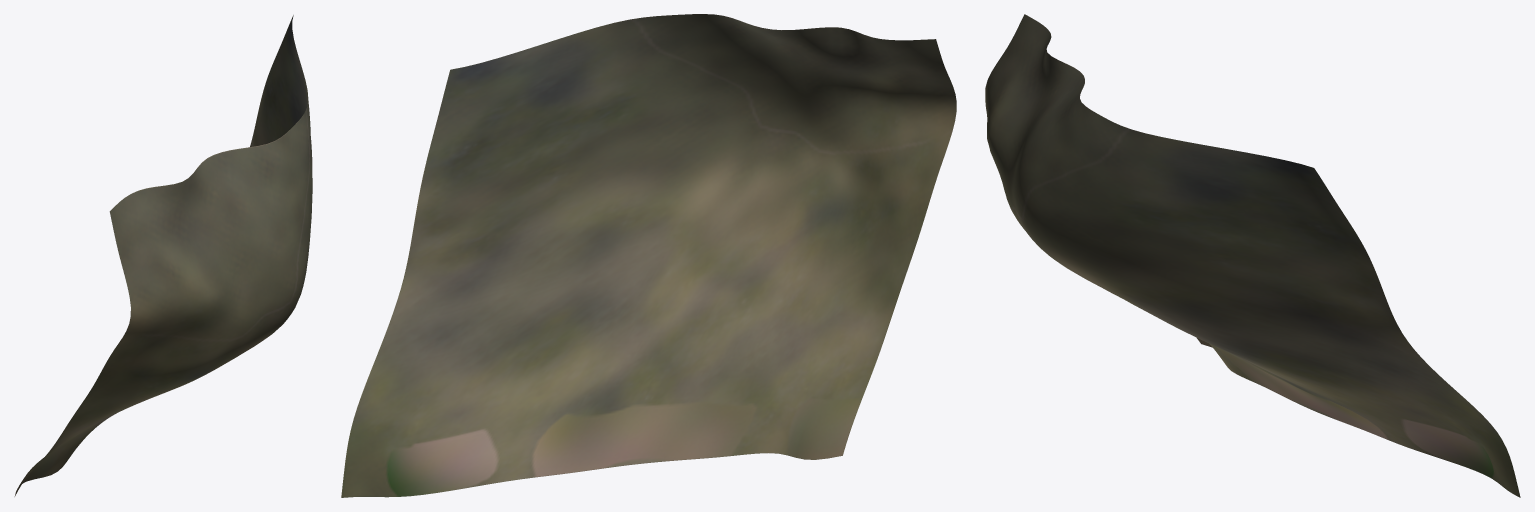
File: ground_mid_01_00.obj
The picture shows the model from 3 angles, left to right: view 1: azimuth 30°, elevation 25°; view 2: azimuth 150°, elevation 25°; view 3: azimuth 270°, elevation 25°; orthographic projection. The views are drawn at different scales.
Visible parts, largest first — view 1: ground_mid_01_00; view 2: ground_mid_01_00; view 3: ground_mid_01_00.
Boxes of the visible parts, box(x1,y1,x2,y2) form: ground_mid_01_00: box(14, 15, 312, 496); ground_mid_01_00: box(341, 14, 956, 497); ground_mid_01_00: box(985, 14, 1520, 497).
Bounding box in the file's own units: 200 × 200 × 294.
Materials: 1 (1 with a texture image).
